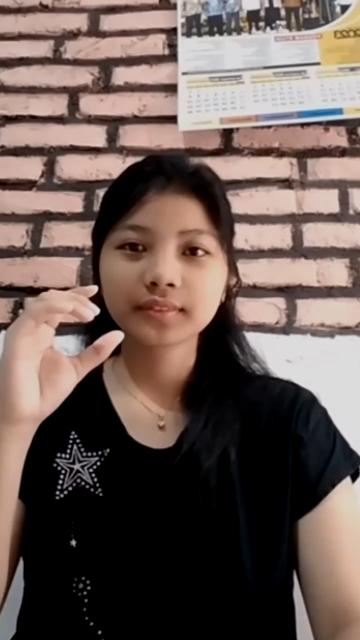C: (0, 284, 126, 438)
